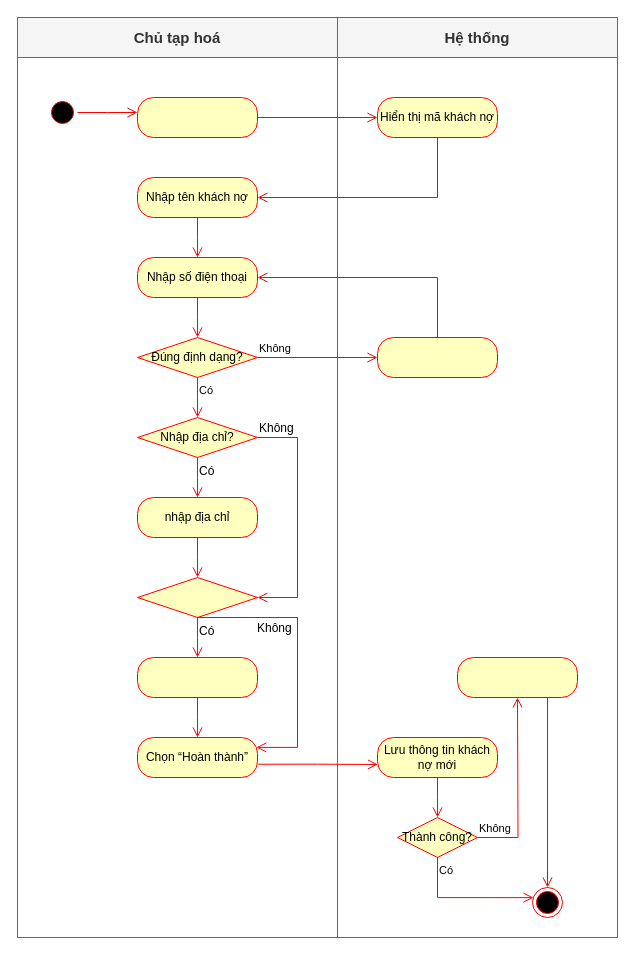
Some shapes in this 635 by 955 pixel diagram are drawn without their labels. The shapes that lost their labels are listed below. From the top down, each one's centre as x and y in pixels, then its label:
pixel 197 117: Chọn biểu tượng tạo khách nợ
pixel 437 357: Hiển thị thông báo “Không hợp lệ"
pixel 197 597: Nhập ghi chú?
pixel 197 677: Nhập ghi chú
pixel 517 677: Hiển thị thông báo “Lưu không thành công”
